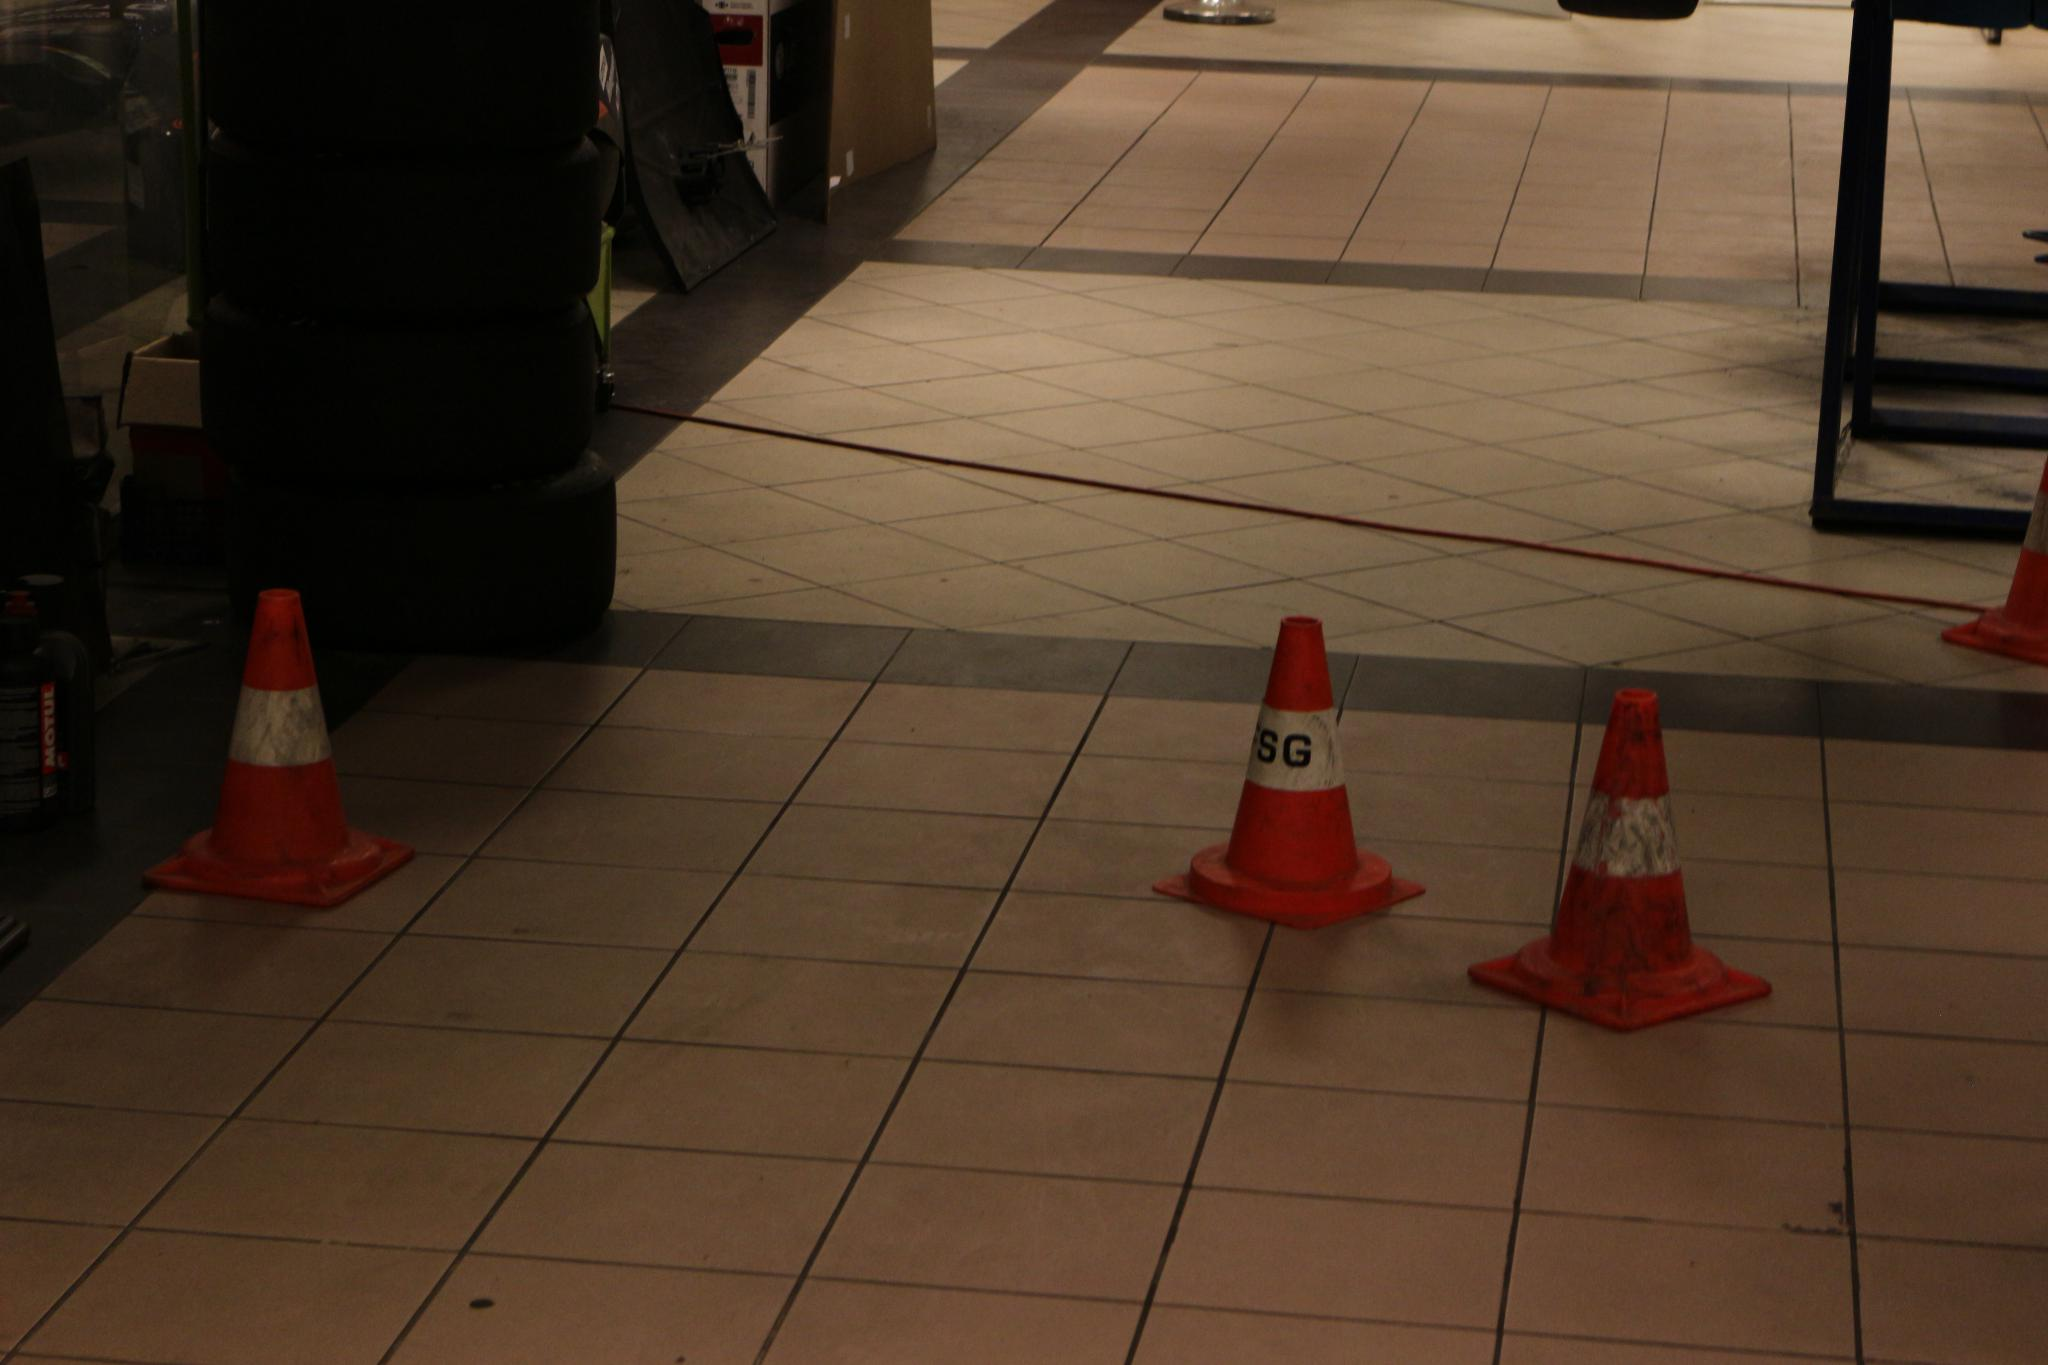Orange_Cone: (1462, 683, 1770, 1039), (1146, 608, 1414, 937), (135, 587, 405, 906), (1939, 445, 2045, 662)
